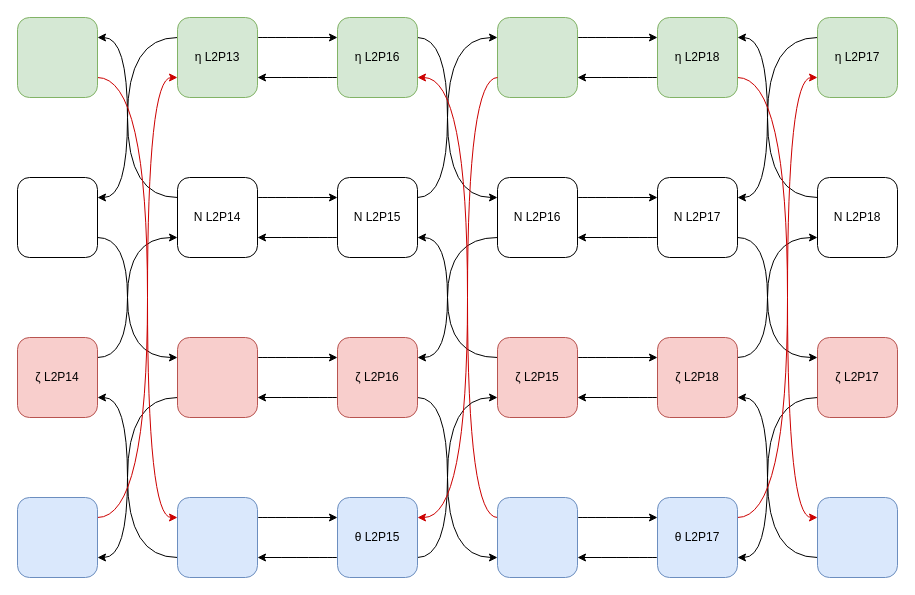
This 915x595 diagram has some shape labels left out. Each missing label, with the centre of its shape:
"N L2P13" goes at (57,217).
"ζ L2P13" goes at (217,377).
"η L2P14" goes at (57,57).
"η L2P15" goes at (537,57).
"θ L2P13" goes at (57,537).
"θ L2P14" goes at (217,537).
"θ L2P16" goes at (537,537).
"θ L2P18" goes at (857,537).
